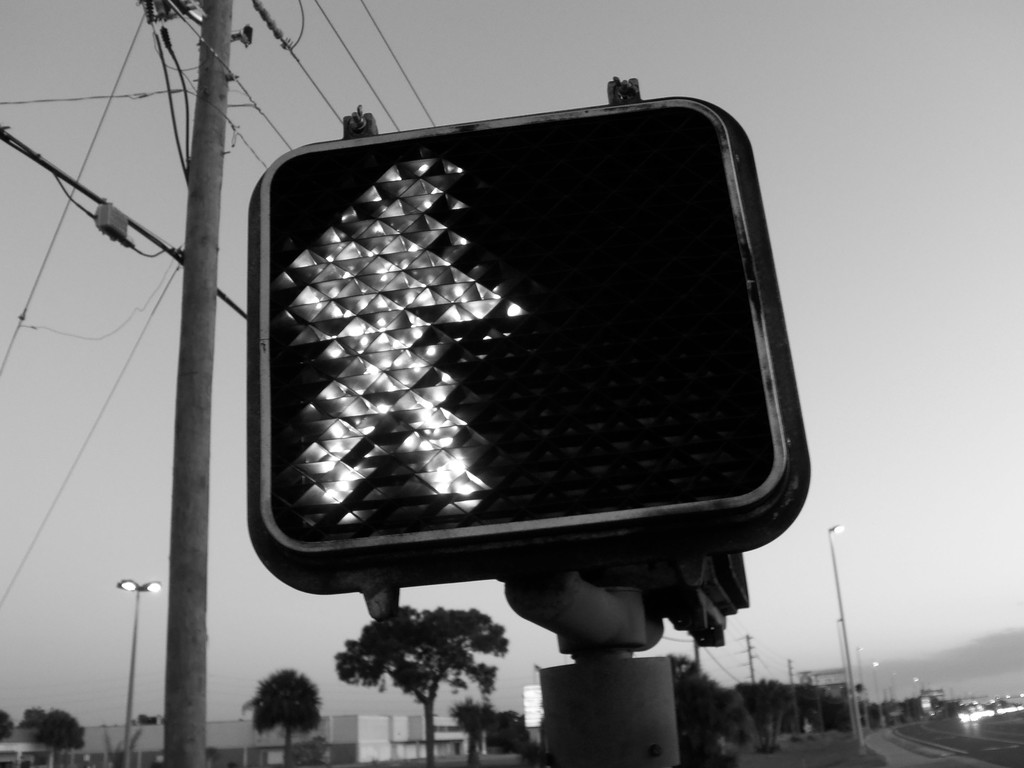pedestrian_crossing_ahead: (266, 95, 804, 570)
pedestrian_crossing_green: (260, 101, 793, 576)
